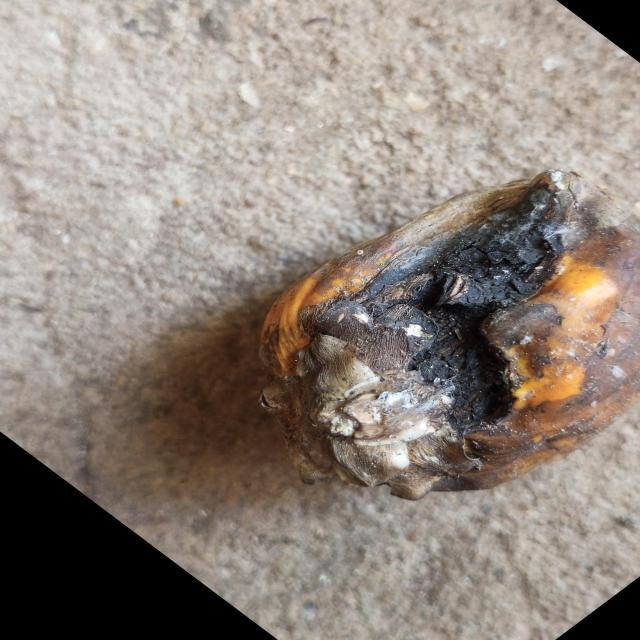damaged: (254, 172, 640, 504)
